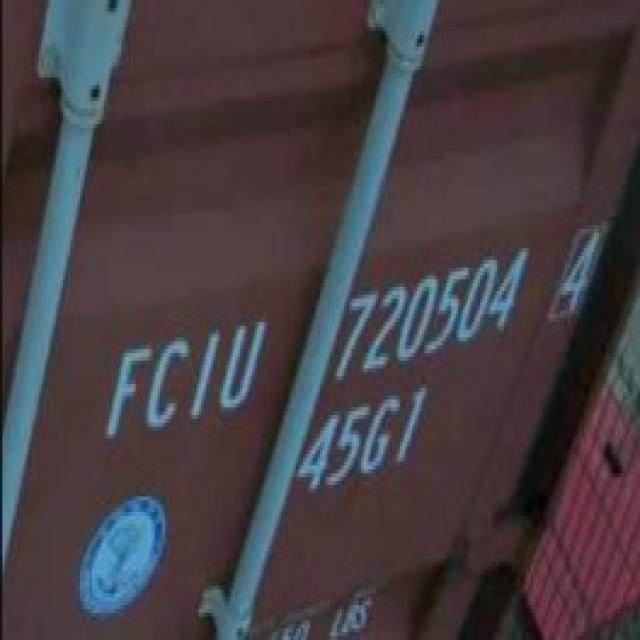dv: (549, 207, 606, 336)
owner: (105, 314, 266, 444)
serial: (330, 240, 527, 380)
size: (295, 383, 436, 500)
